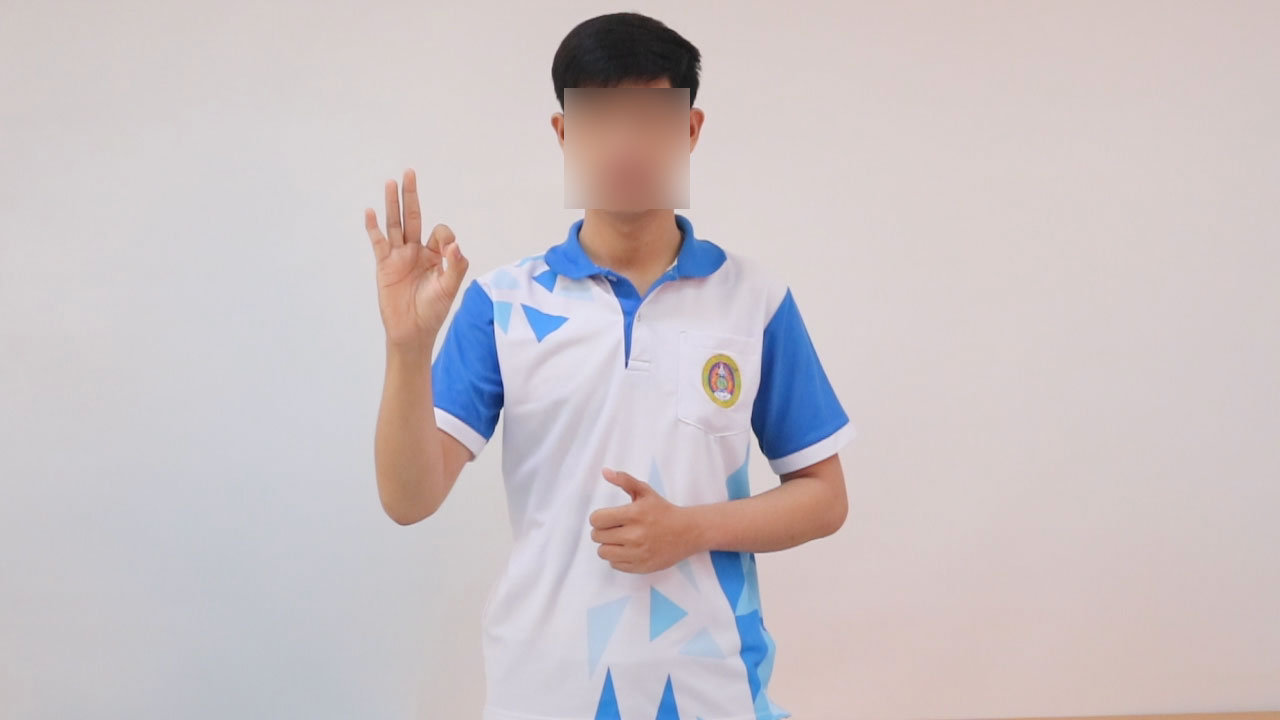for: (356, 160, 475, 366)
